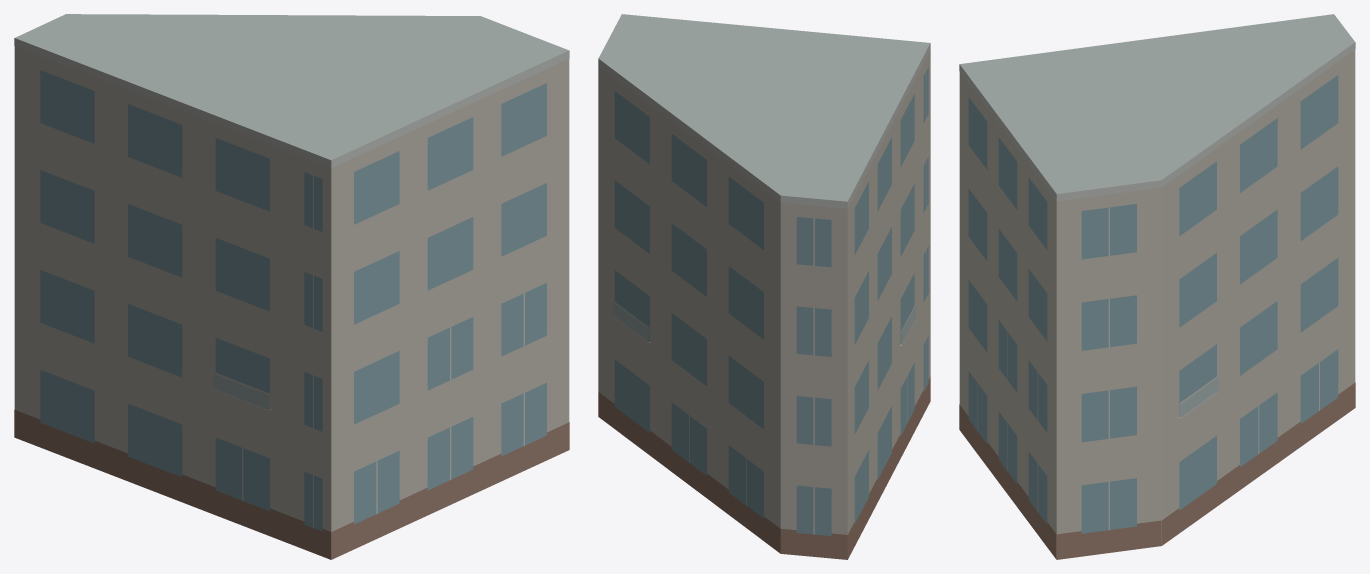
Rendered from residential-2eb51ee9-4aca-4855-9c67-bfbd799f7ce6.glb.
3 views of the same model, side by side, from view 1: azimuth 30°, elevation 25°; view 2: azimuth 150°, elevation 25°; view 3: azimuth 270°, elevation 25° (orthographic). The views are drawn at different scales.
Parts seen in each view (by area): view 1: residential-2eb51ee9-4aca-4855-9c67-bfbd799f7ce6.tmp; view 2: residential-2eb51ee9-4aca-4855-9c67-bfbd799f7ce6.tmp; view 3: residential-2eb51ee9-4aca-4855-9c67-bfbd799f7ce6.tmp.
Boxes of the visible parts, x1,y1,x2,y2 form: residential-2eb51ee9-4aca-4855-9c67-bfbd799f7ce6.tmp: [14, 14, 569, 559]; residential-2eb51ee9-4aca-4855-9c67-bfbd799f7ce6.tmp: [598, 14, 930, 559]; residential-2eb51ee9-4aca-4855-9c67-bfbd799f7ce6.tmp: [959, 14, 1355, 559].
Bounding box in the file's own units: 12.9 × 12.2 × 11.98.
